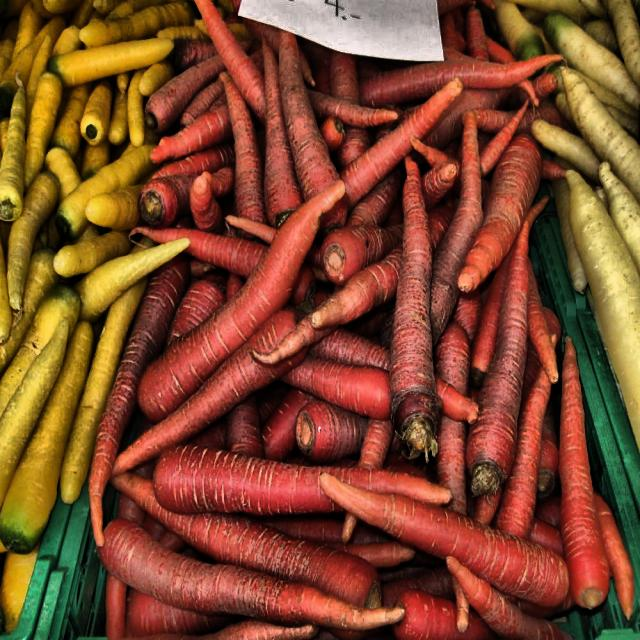carrot: (20, 14, 610, 614)
